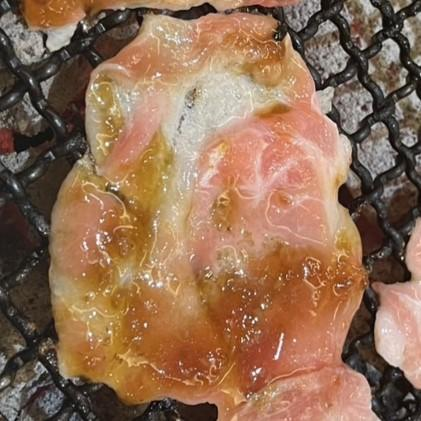Undercooked: (47, 14, 377, 420)
